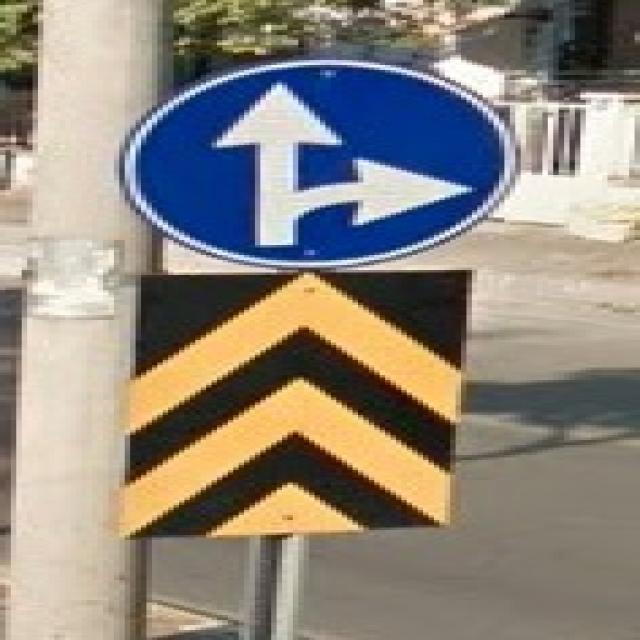Straight or Right: (137, 64, 500, 264)
